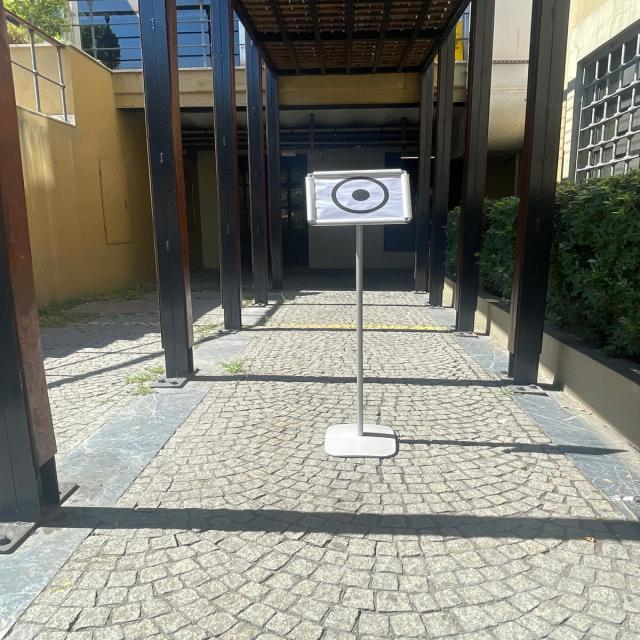Target: (286, 156, 432, 236)
inner: (346, 185, 380, 207)
